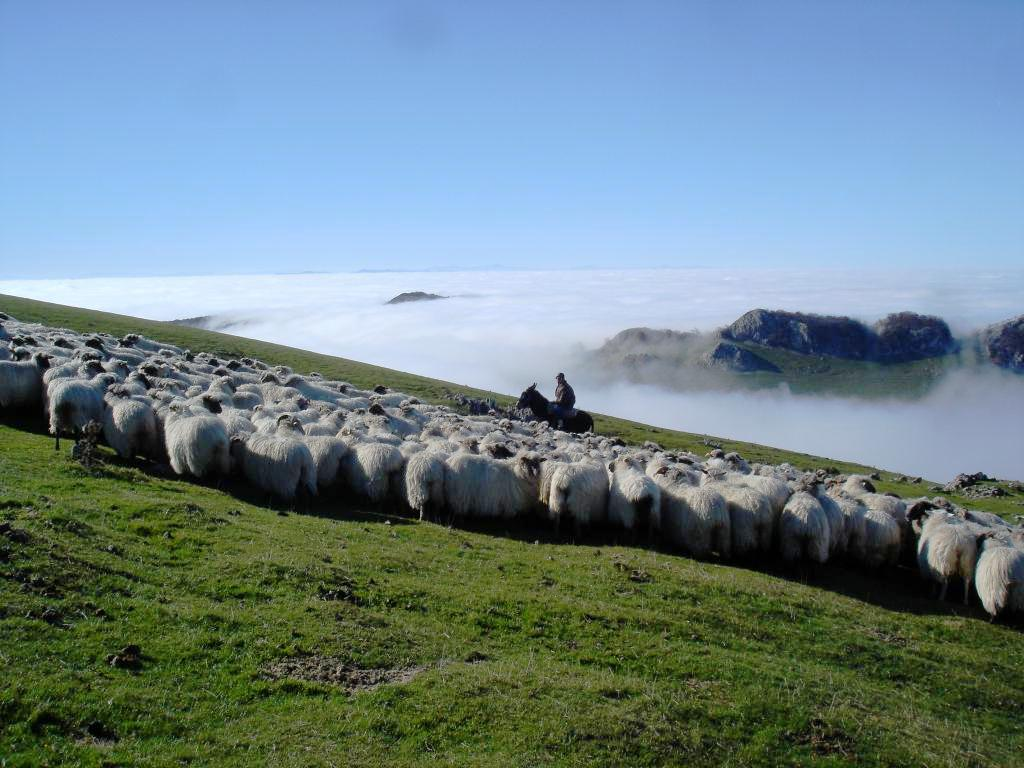Sheep: (442, 451, 549, 518), (653, 464, 729, 558), (235, 424, 318, 509), (700, 464, 773, 554), (276, 413, 348, 499), (916, 508, 975, 611), (48, 370, 121, 453), (334, 426, 402, 511), (165, 399, 232, 483), (548, 450, 611, 539), (972, 529, 1024, 627), (98, 382, 158, 465), (845, 493, 904, 571), (608, 454, 660, 539), (405, 440, 453, 522), (780, 485, 827, 563), (841, 472, 904, 525), (5, 352, 57, 413), (48, 358, 106, 400), (165, 390, 228, 424), (283, 371, 350, 400), (905, 500, 950, 539), (457, 442, 511, 474), (441, 436, 482, 472), (84, 337, 143, 361), (123, 332, 179, 356), (368, 403, 406, 424), (2, 346, 33, 366), (213, 364, 251, 380), (260, 370, 290, 388), (0, 336, 27, 351)
